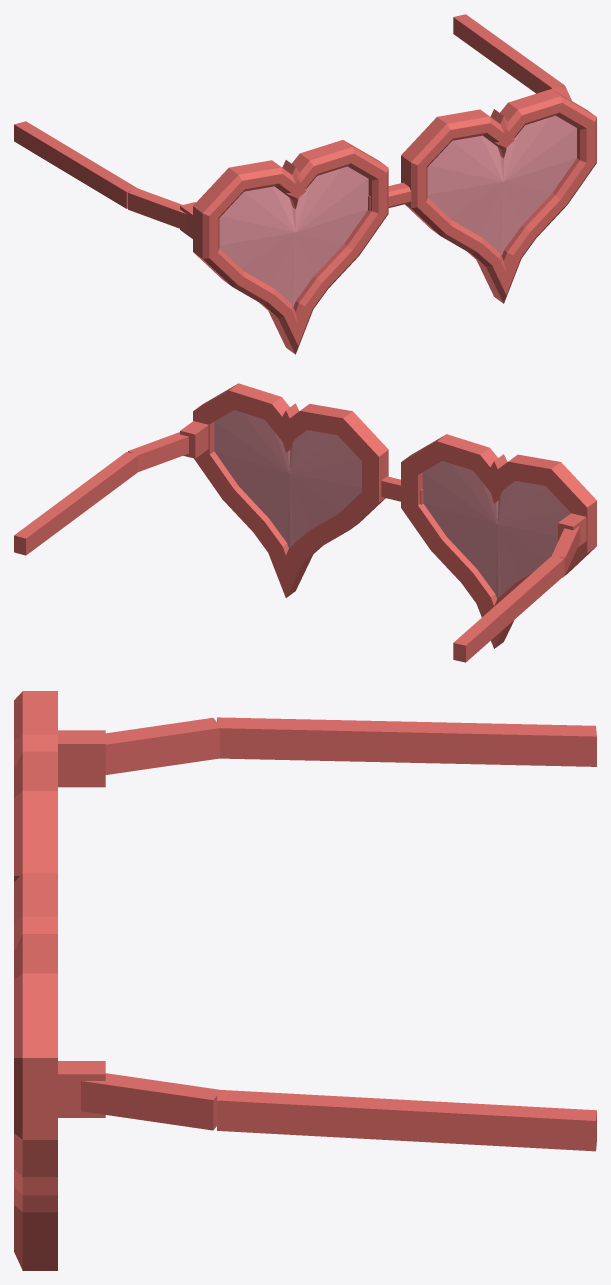
File: Pink_Heart_Glasses.fbx
The picture shows the model from 3 angles, top to bottom: view 1: azimuth 30°, elevation 25°; view 2: azimuth 150°, elevation 25°; view 3: azimuth 270°, elevation 25°; orthographic projection. The views are drawn at different scales.
Parts seen in each view (by area): view 1: Pink_Heart_Glasses; view 2: Pink_Heart_Glasses; view 3: Pink_Heart_Glasses.
Part boxes in pixels (left/top/right/bottom): Pink_Heart_Glasses: left=14, top=14, right=596, bottom=354; Pink_Heart_Glasses: left=14, top=383, right=596, bottom=662; Pink_Heart_Glasses: left=14, top=691, right=596, bottom=1270.
Bounding box in the file's own units: 0.2344 × 0.0961 × 0.1461.
